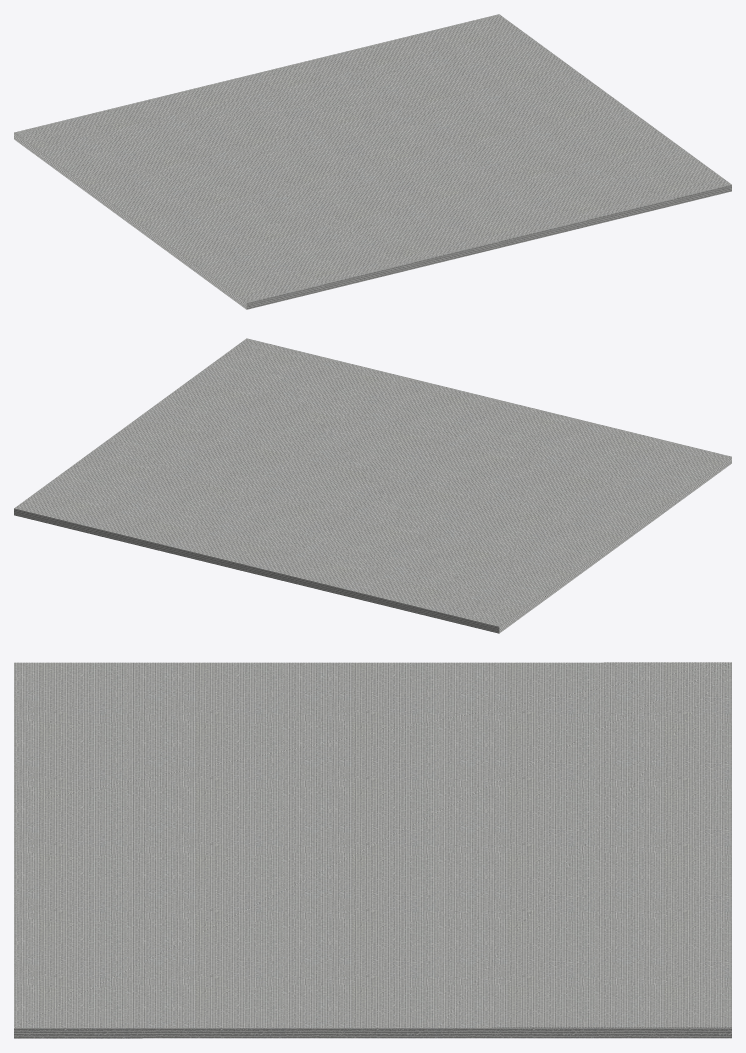
Rendered from Floor_a06fd6c4.obj.
3 views of the same model, one above another, from view 1: azimuth 30°, elevation 25°; view 2: azimuth 150°, elevation 25°; view 3: azimuth 270°, elevation 25° (orthographic). The views are drawn at different scales.
Parts seen in each view (by area): view 1: mesh_cff44af3; view 2: mesh_cff44af3; view 3: mesh_cff44af3.
Boxes of the visible parts, <box> form: mesh_cff44af3: <box>14,14,731,309</box>; mesh_cff44af3: <box>14,338,731,633</box>; mesh_cff44af3: <box>14,662,731,1038</box>.
Size of the model in its own units: 5.54 by 0.0762 by 4.6.
